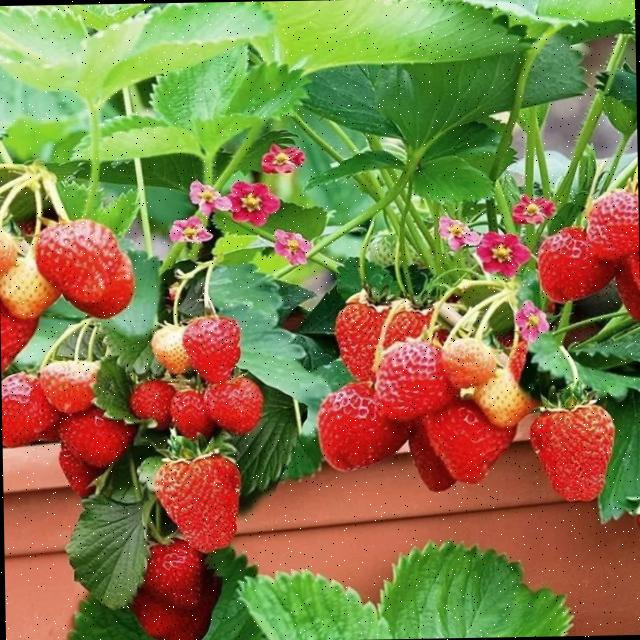Ripe Strawberry: (318, 380, 416, 472), (153, 457, 241, 552), (532, 408, 615, 502), (426, 404, 516, 484), (337, 303, 428, 380), (36, 220, 120, 302), (132, 569, 223, 640), (376, 342, 454, 418), (539, 225, 614, 302), (64, 256, 135, 320), (58, 408, 130, 466), (2, 374, 57, 444), (185, 315, 242, 380), (146, 542, 202, 607), (588, 188, 638, 258), (412, 423, 456, 492), (206, 380, 263, 433), (1, 302, 41, 366), (56, 449, 102, 494), (132, 379, 174, 421), (170, 391, 207, 438), (616, 251, 640, 317)
